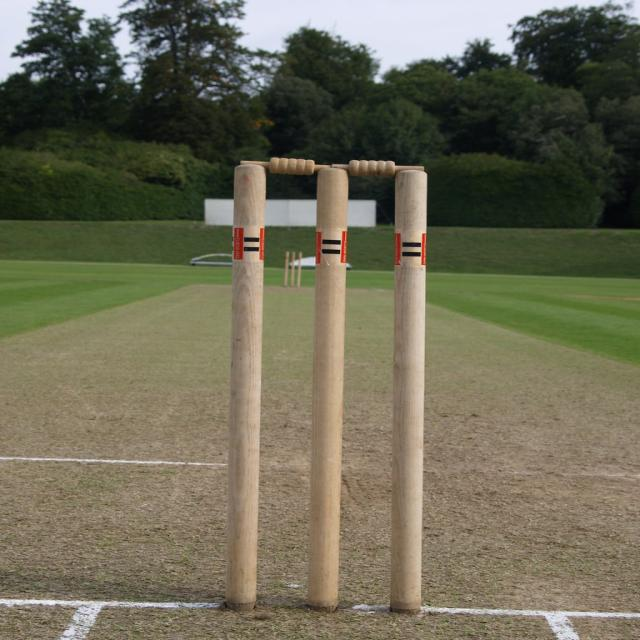stump: (224, 162, 432, 606)
